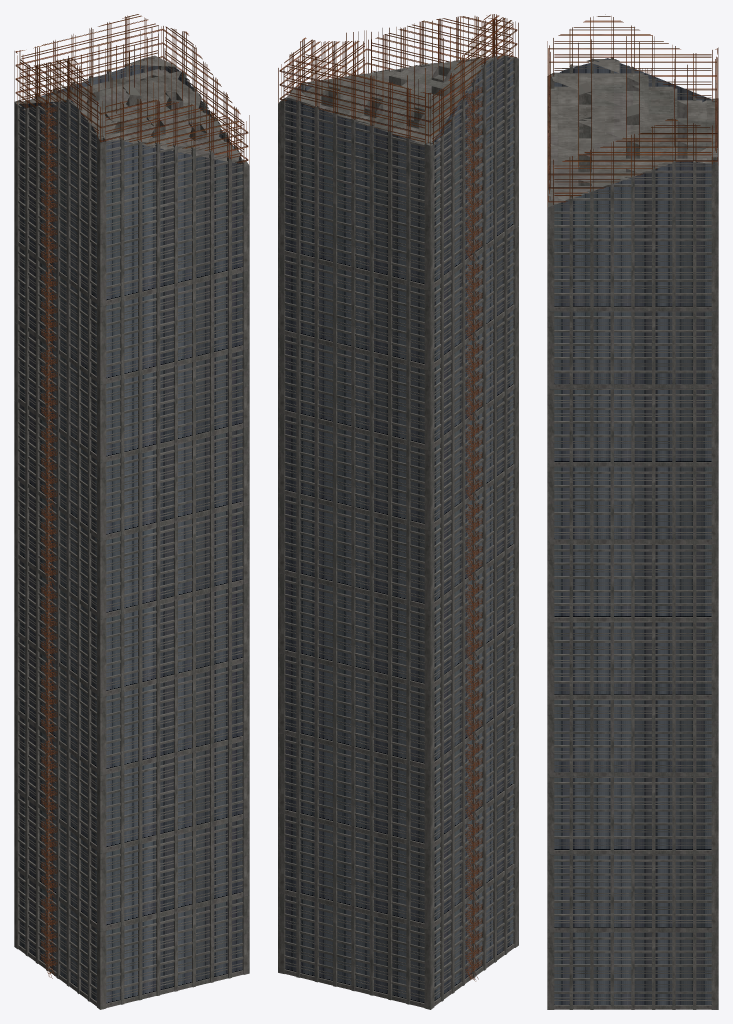
Rendered from building_04.glb.
3 renders of one model, left to right at view 1: azimuth 30°, elevation 25°; view 2: azimuth 150°, elevation 25°; view 3: azimuth 270°, elevation 25°, orthographic. The views are drawn at different scales.
Visible parts, largest first — view 1: Building 04; view 2: Building 04; view 3: Building 04.
Boxes of the visible parts, x1,y1,x2,y2 form: Building 04: (14,14,249,1009); Building 04: (278,14,518,1009); Building 04: (547,14,718,1009).
Bounding box in the file's own units: 41.86 × 238 × 40.
Materials: 3 (3 with a texture image).
